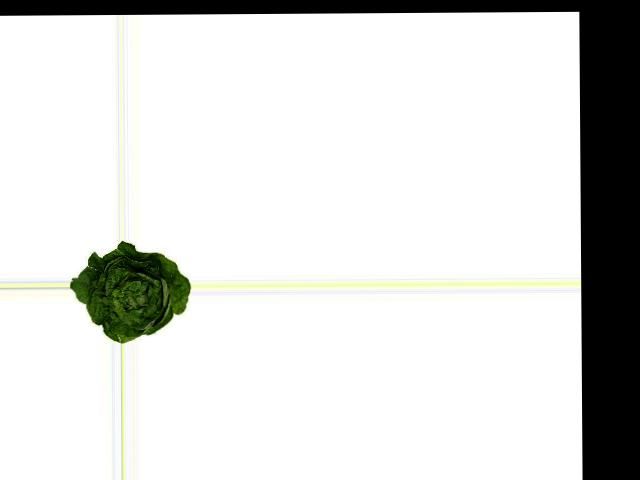lettuce: (73, 240, 191, 342)
